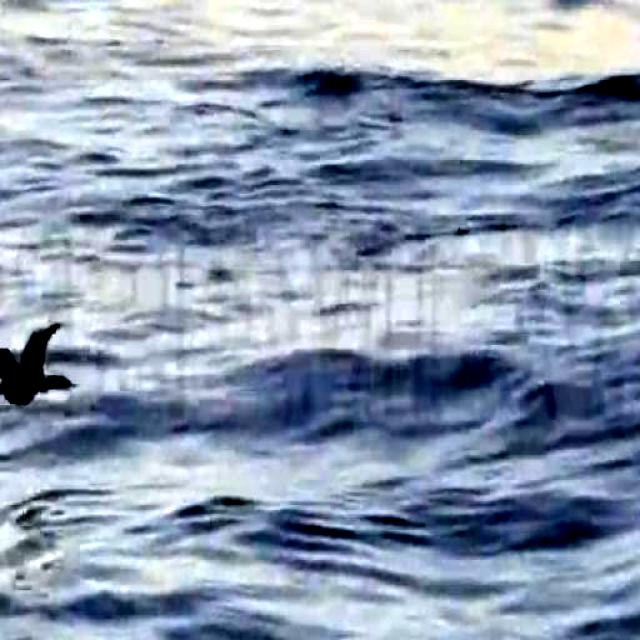airplane: (0, 294, 82, 429)
